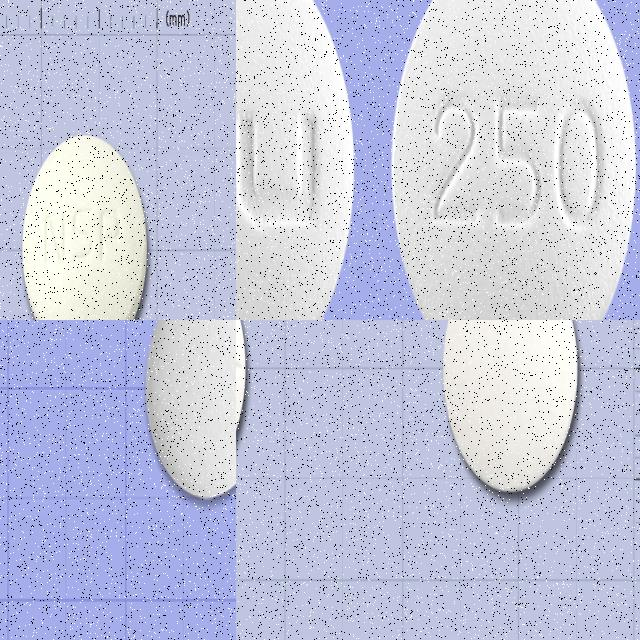Ciproctan - 500mg: (19, 130, 158, 320)
Ciquroby: (387, 0, 640, 320), (236, 0, 361, 320)
Cq Robey: (146, 320, 236, 499)
Cyspec: (443, 320, 579, 493)
